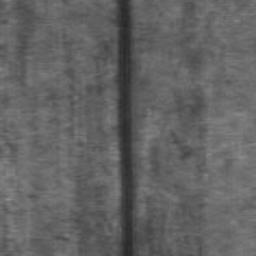Scratches: (116, 0, 138, 256)
